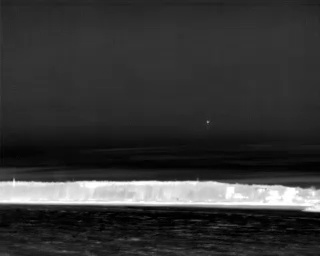HELICOPTER: (204, 118, 212, 128)
